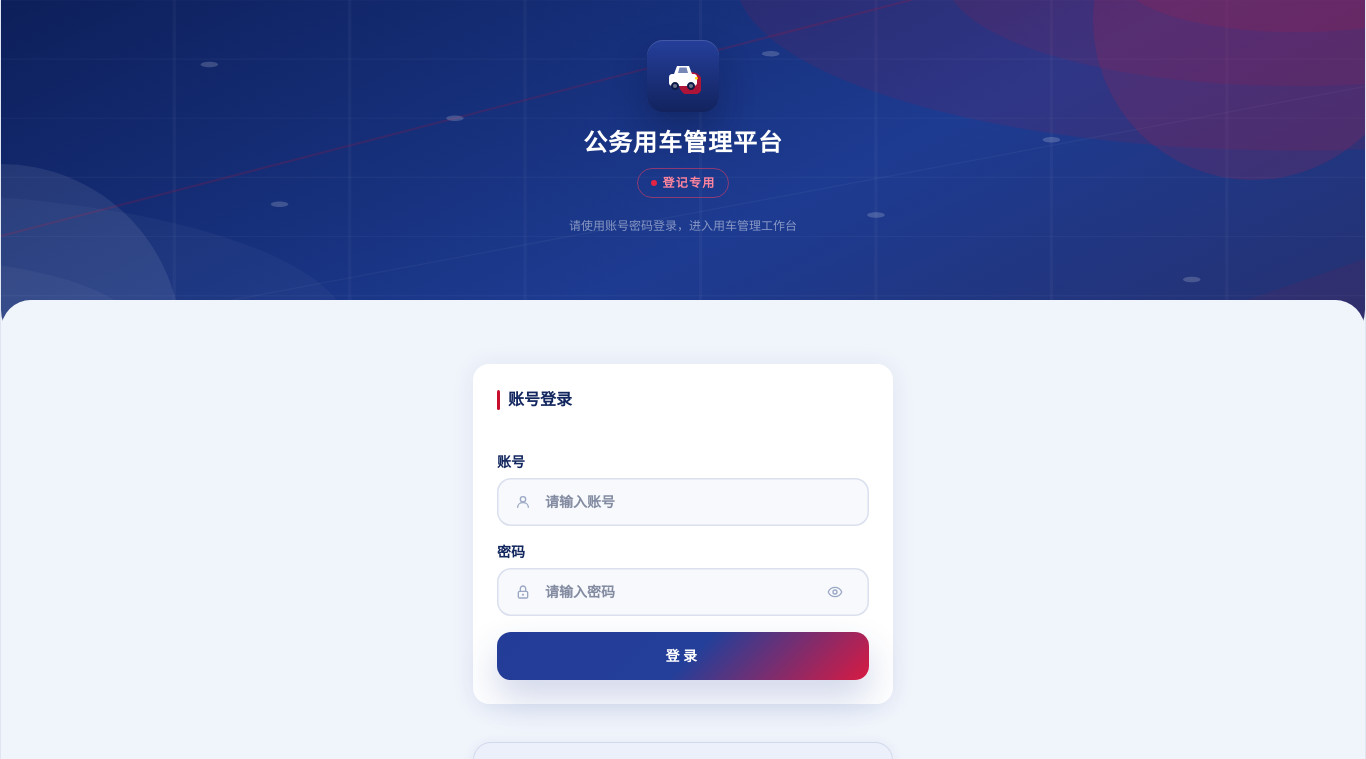
Test case: Issue 1 authentication UI › shows the management entry after an administrator logs in
The image size is (1366, 759).
Type "admin" into the field labelled "账号".
click(683, 502); type("admin")  # box [497,478,869,526]
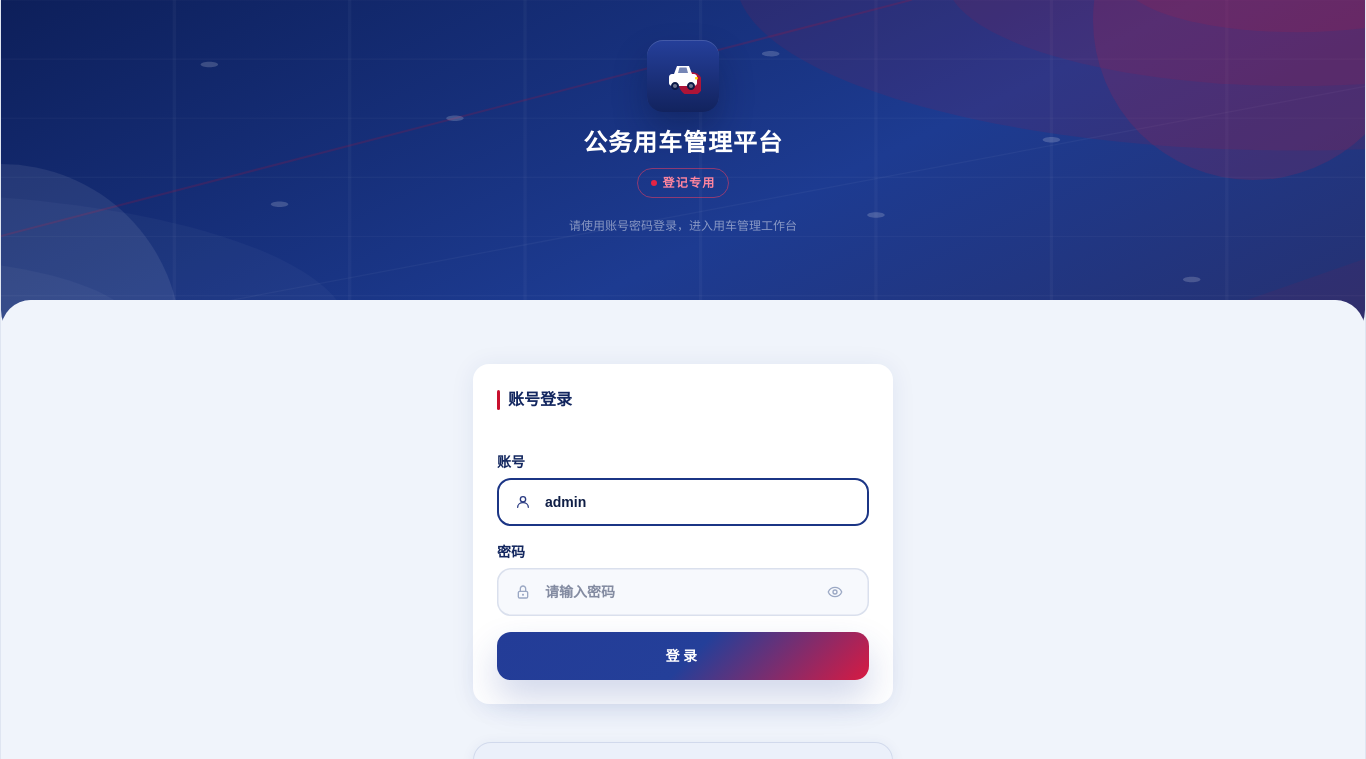
Type "admin" into the password field labelled "密码".
click(683, 592); type("admin")  # box [497,568,869,616]
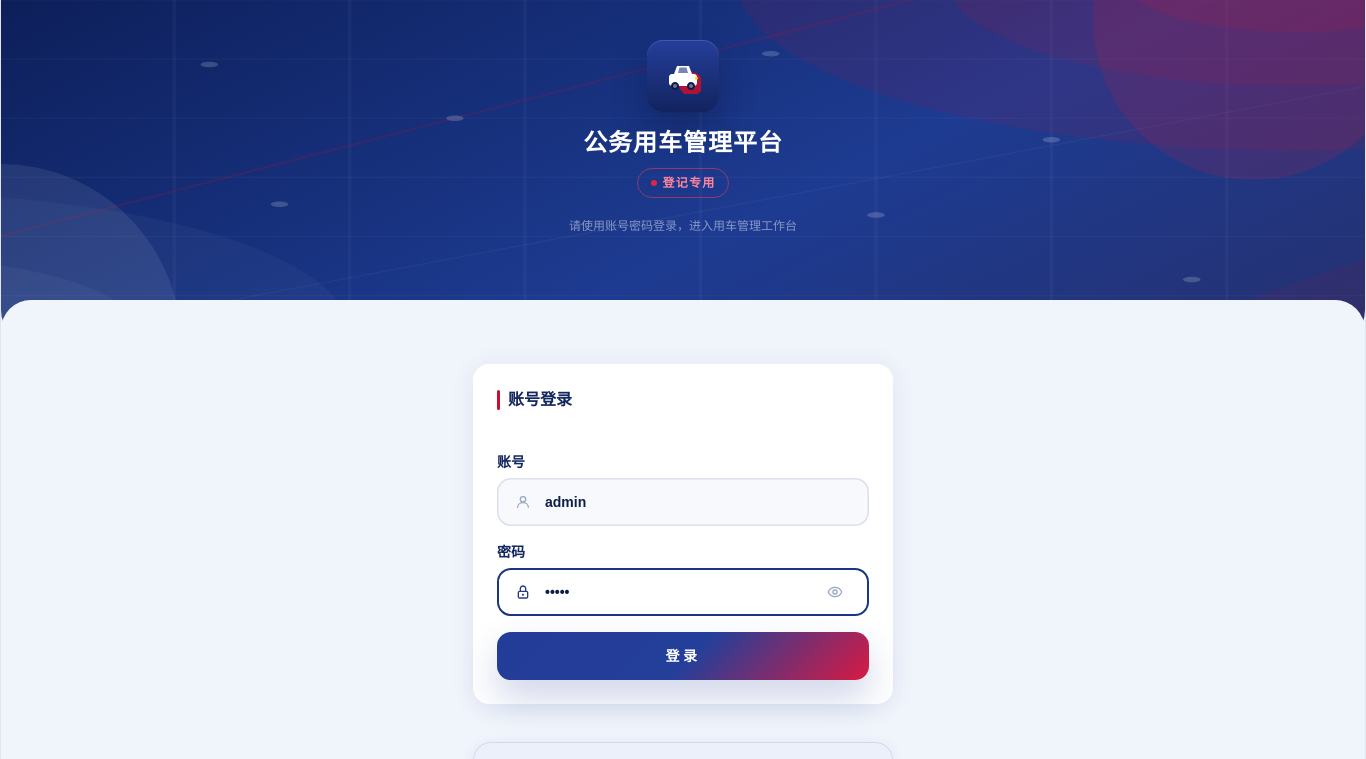
Click the button "登录".
click(683, 656)  # box [497,632,869,680]
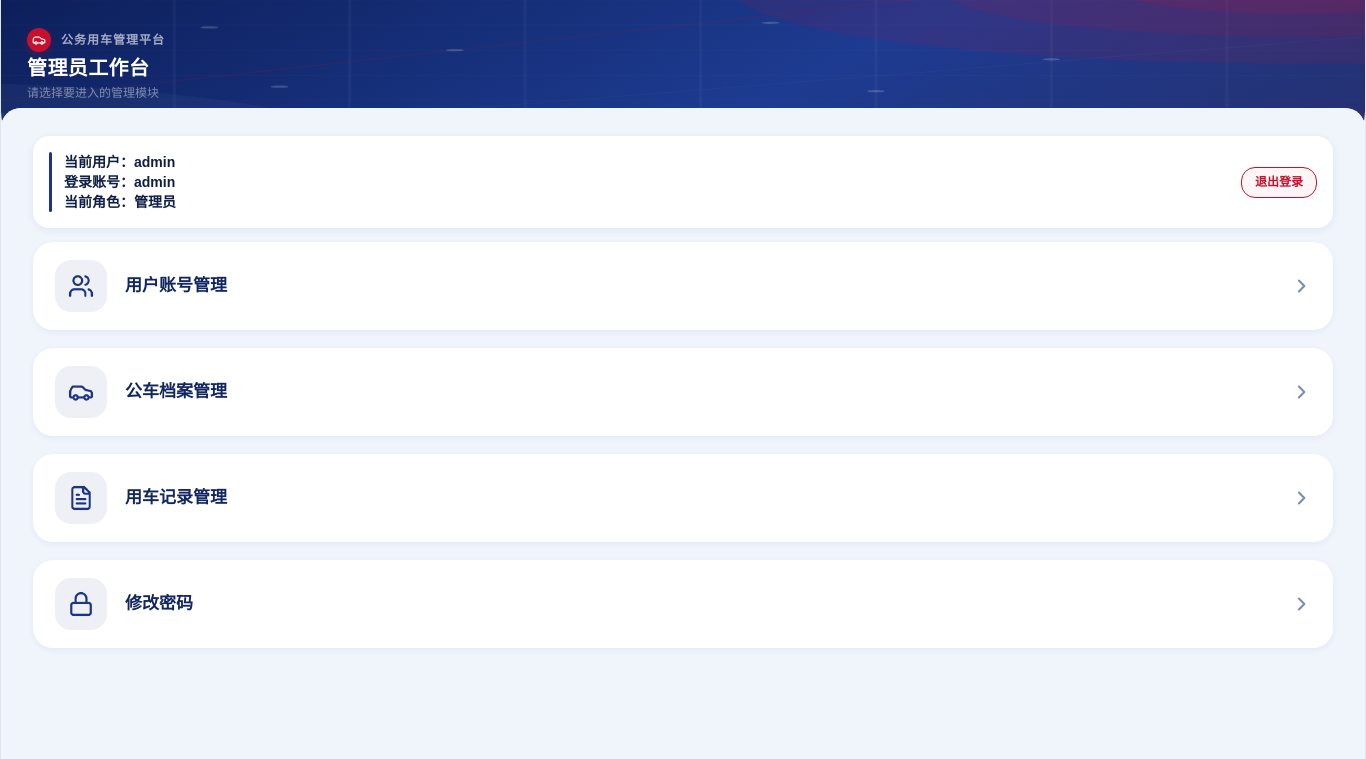
Now the heading "管理员工作台" is shown, box [27,57,149,79]
Now the text "当前用户：admin" is shown, box [64,152,176,172]
Now the text "当前角色：管理员" is shown, box [64,192,176,212]
